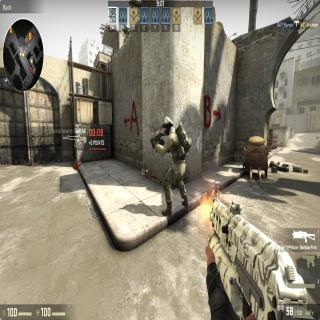CT-Body: (157, 114, 188, 218)
CT-Head: (161, 114, 175, 139)
